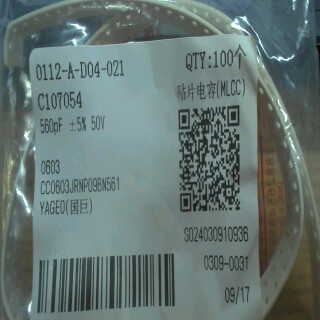560pF: (37, 116, 70, 139)
